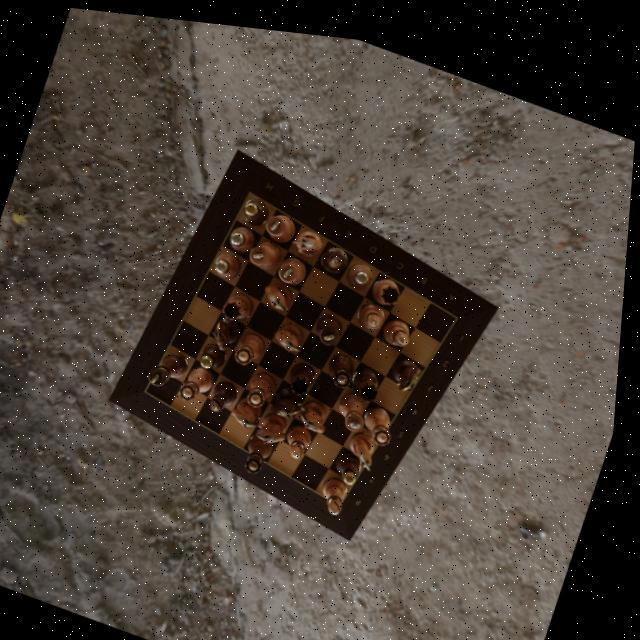chess-table-corners: (138, 368, 170, 402), (238, 171, 266, 204), (443, 290, 469, 324), (330, 482, 355, 512)
